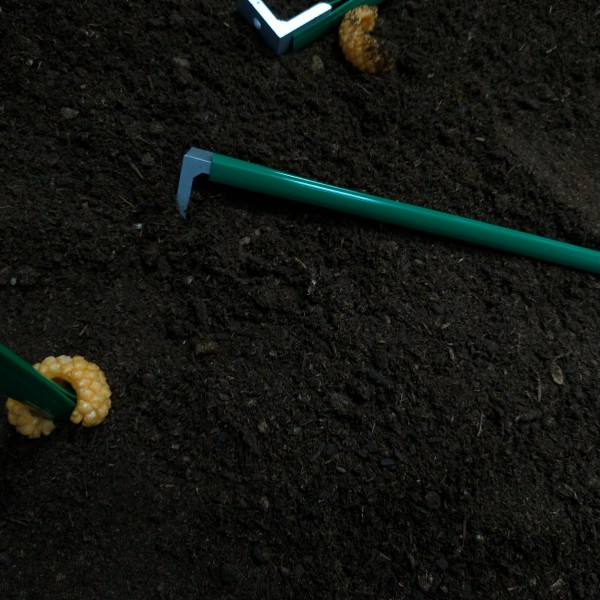eggs: (7, 350, 122, 437), (338, 3, 400, 75)
